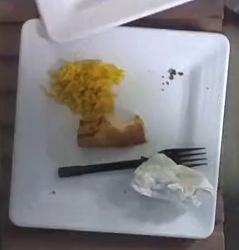pizza_crust: (78, 116, 146, 147)
rice: (47, 60, 125, 119)
